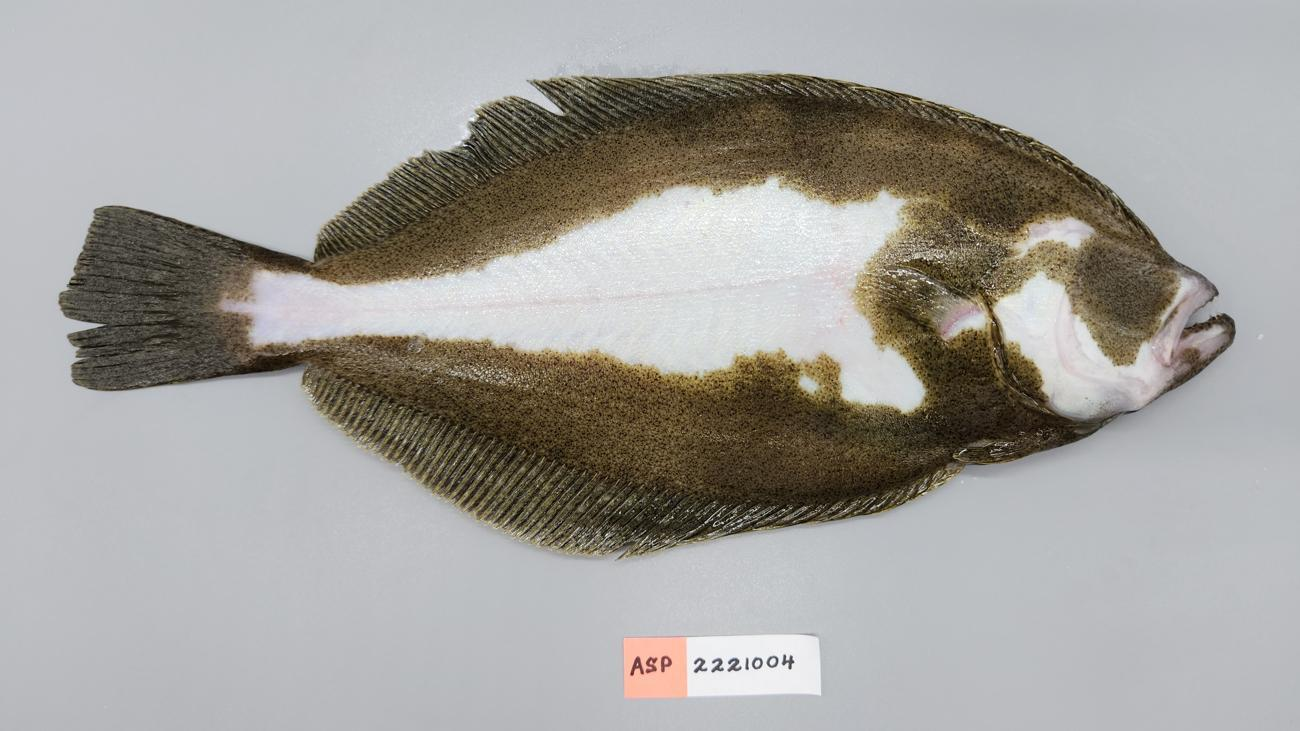SPDYH: (817, 251, 864, 345)
SPOUY: (41, 63, 1247, 570)
